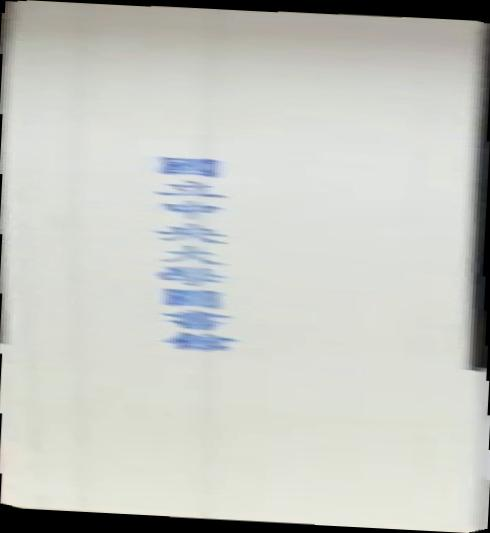backward: (1, 1, 490, 533)
